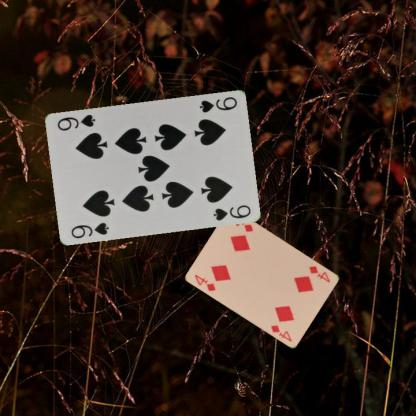4d: (192, 272, 218, 294), (307, 263, 332, 284)
9s: (69, 219, 110, 240), (197, 94, 239, 114)
